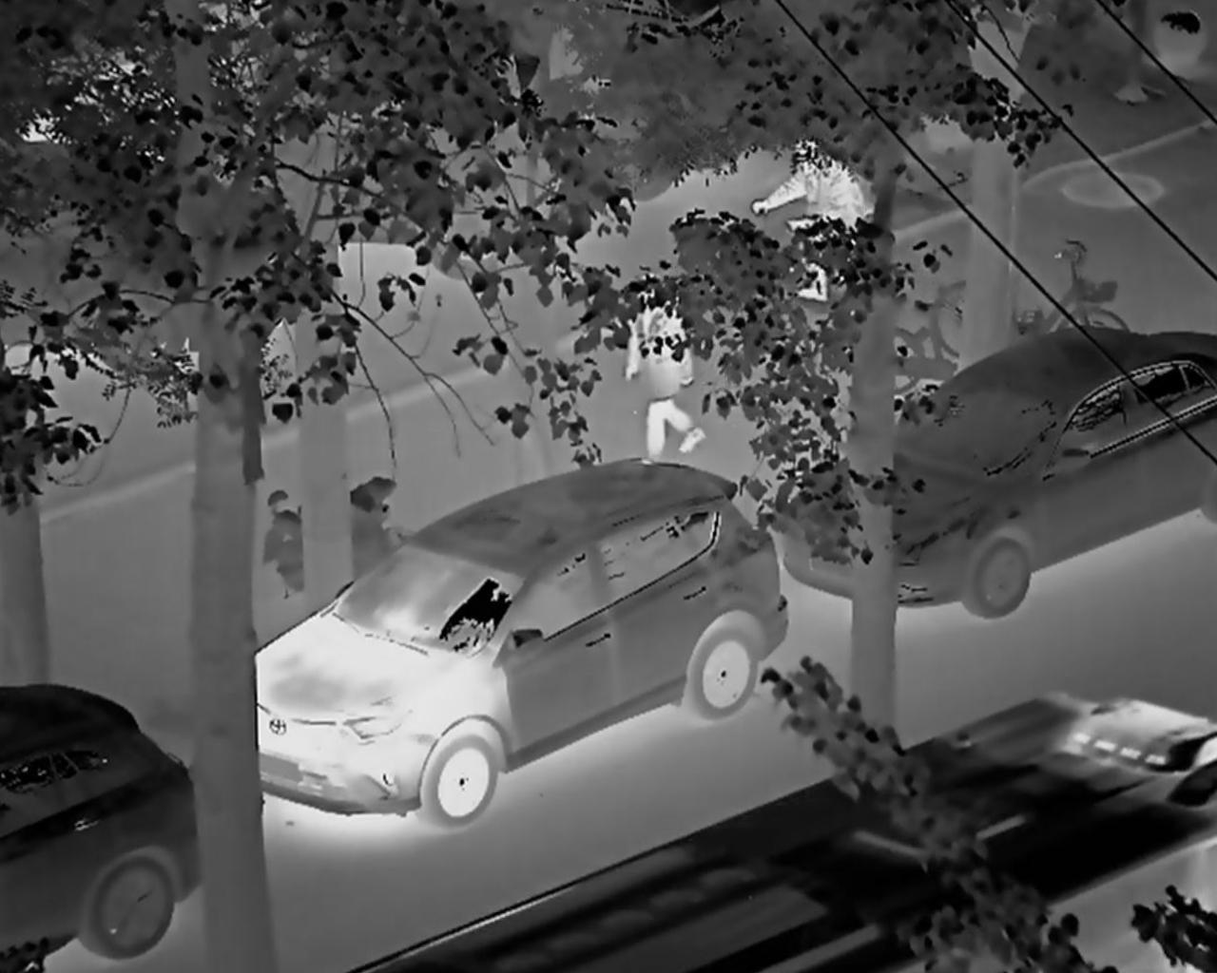person: (764, 123, 871, 311), (617, 258, 705, 481)
